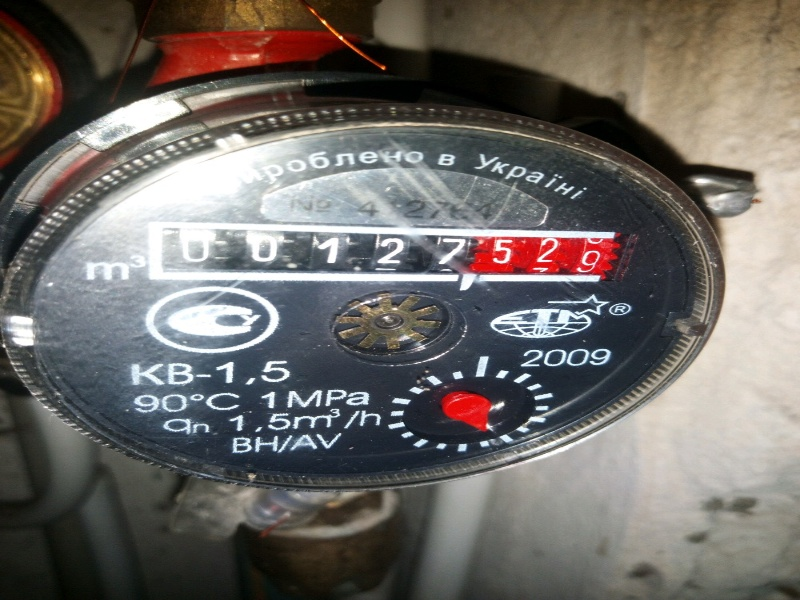meter: (178, 223, 603, 276)
